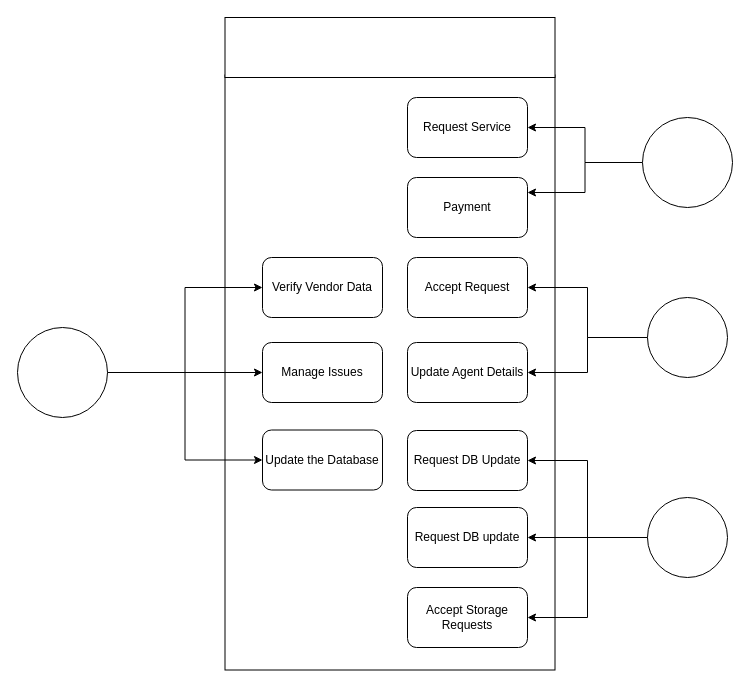
This 750x688 diagram has some shape labels left out. Each missing label, with the centre of its shape:
Admin: (62,372)
Delivery Agent: (687,337)
Use Case Diagram: (389,47)
User: (687,162)
Warehouse and Retailers: (687,537)
